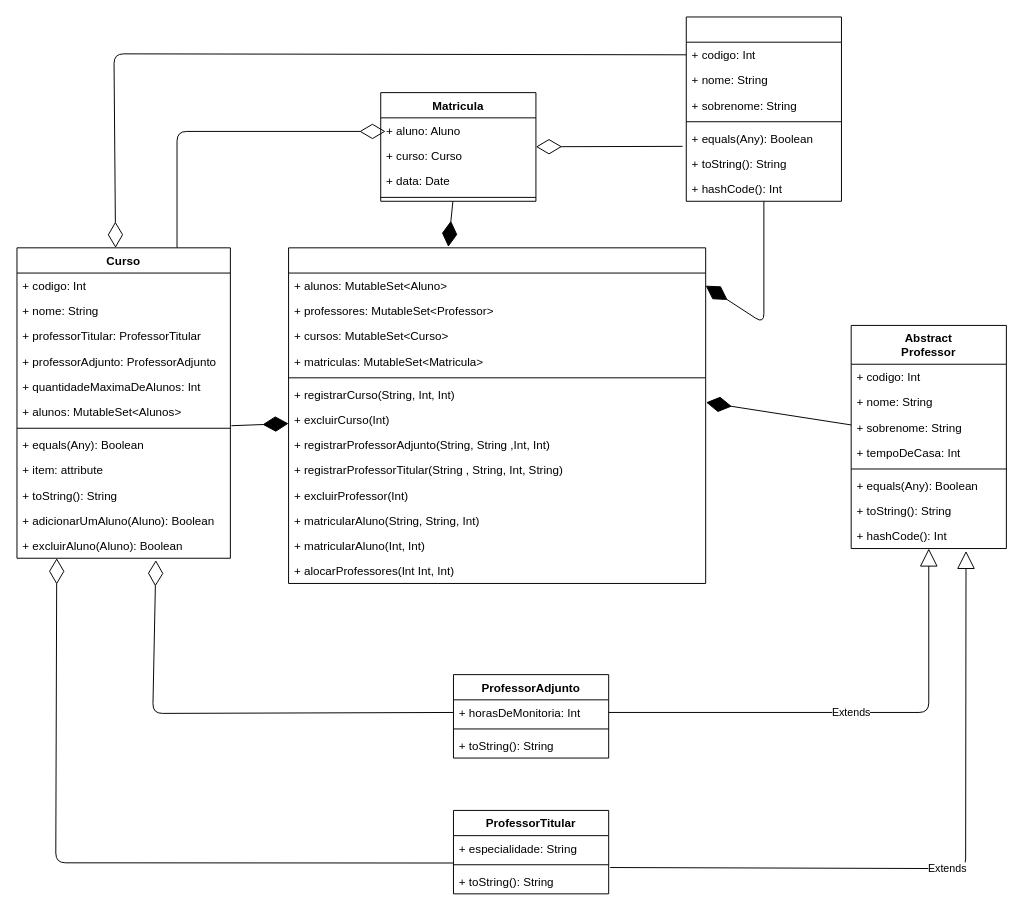
The diagram is 1023 pixels wide and 914 high, and some of its shapes have lost their labels. The box of each missing label's shape, as (x1, y1, x2, y2) in pixels:
Aluno: (685, 16, 841, 201)
DigitalHouseManager: (288, 247, 706, 583)
